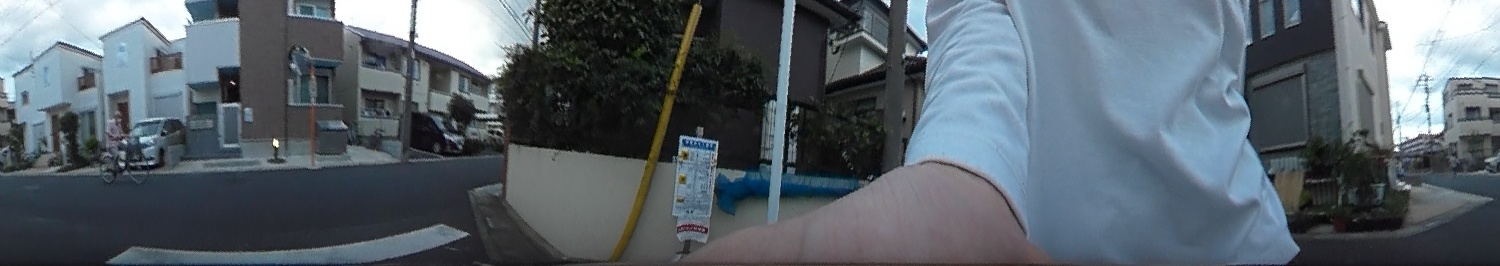person: (92, 105, 131, 167)
